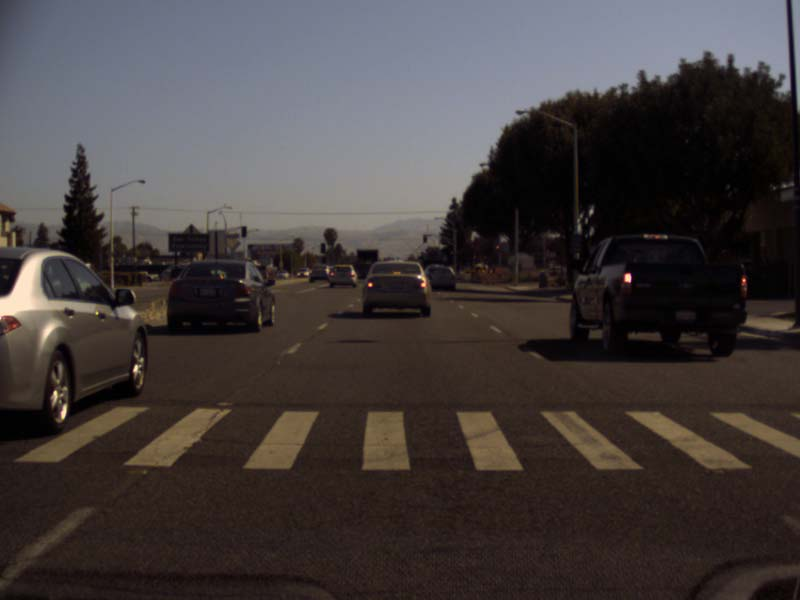Red: (495, 245, 498, 252), (423, 235, 426, 241)
